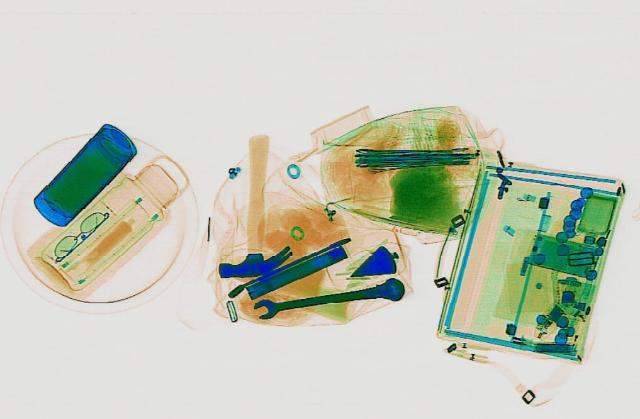Wrench: (249, 275, 409, 320)
